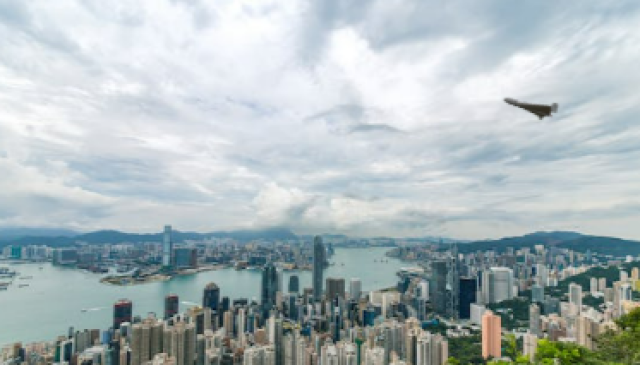military drone: (502, 96, 558, 120)
